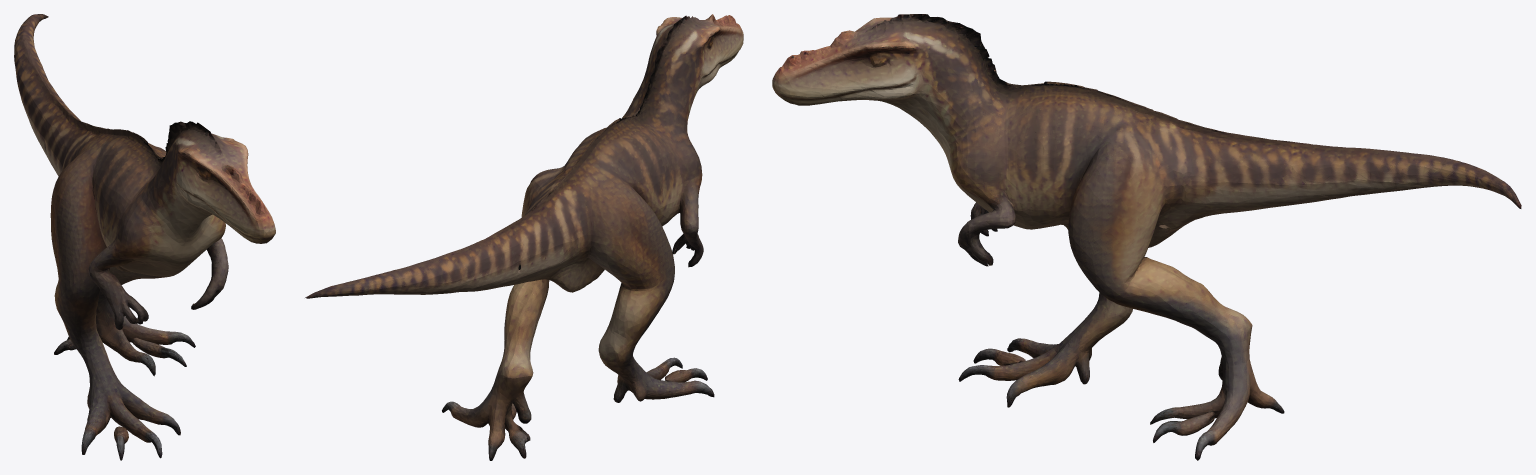
3 views of the same model, side by side, from view 1: azimuth 30°, elevation 25°; view 2: azimuth 150°, elevation 25°; view 3: azimuth 270°, elevation 25° (orthographic). The views are drawn at different scales.
Parts seen in each view (by area): view 1: world; view 2: world; view 3: world.
Boxes of the visible parts, <box> form: world: <box>14,14,275,460</box>; world: <box>305,14,743,460</box>; world: <box>772,14,1521,460</box>.
Bounding box in the file's own units: 0.3393 × 0.565 × 1.
1 material, 1 textured.
